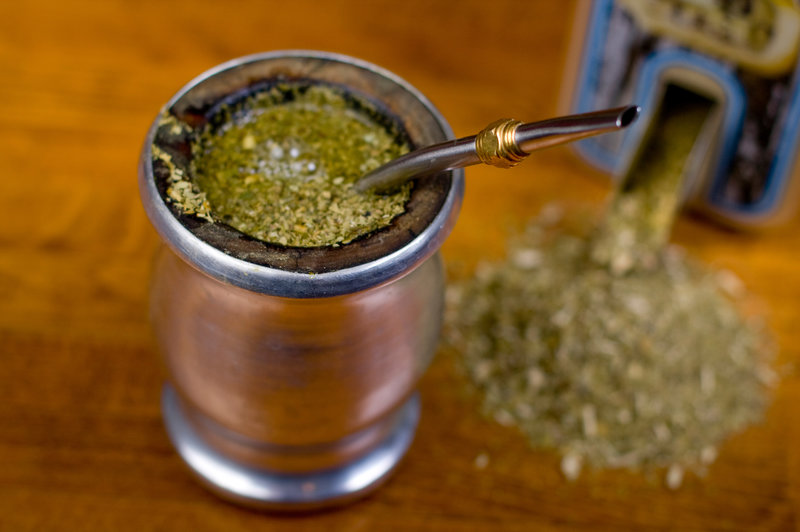guampa: (94, 38, 661, 532)
